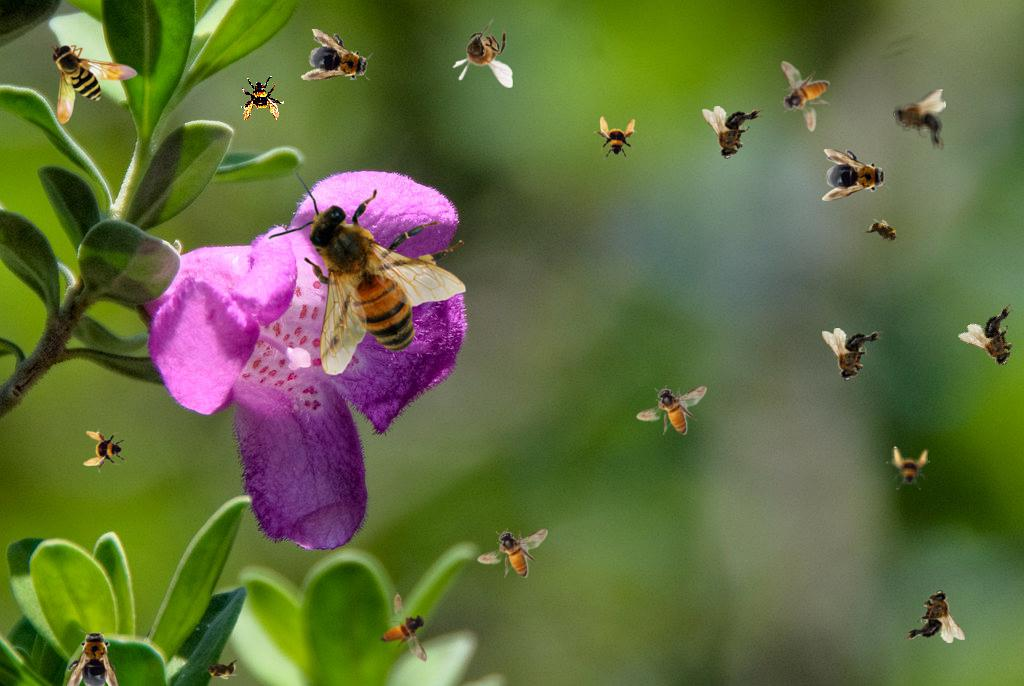Bee: (267, 172, 466, 376), (50, 42, 138, 124), (956, 300, 1024, 378), (300, 27, 378, 93), (452, 18, 513, 88), (780, 61, 830, 132), (636, 385, 707, 435), (379, 592, 429, 663), (477, 528, 548, 578), (822, 149, 890, 201), (903, 590, 965, 643), (822, 328, 884, 381), (702, 106, 764, 159), (893, 89, 946, 151), (66, 626, 120, 686), (237, 74, 287, 124), (593, 116, 637, 160), (886, 446, 930, 490), (83, 429, 127, 473), (861, 212, 907, 252), (201, 658, 241, 680)
